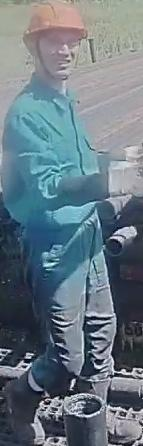gloves: (97, 158, 143, 202), (108, 144, 143, 164)
helmet: (20, 0, 87, 40)
vest: (0, 86, 103, 245)
